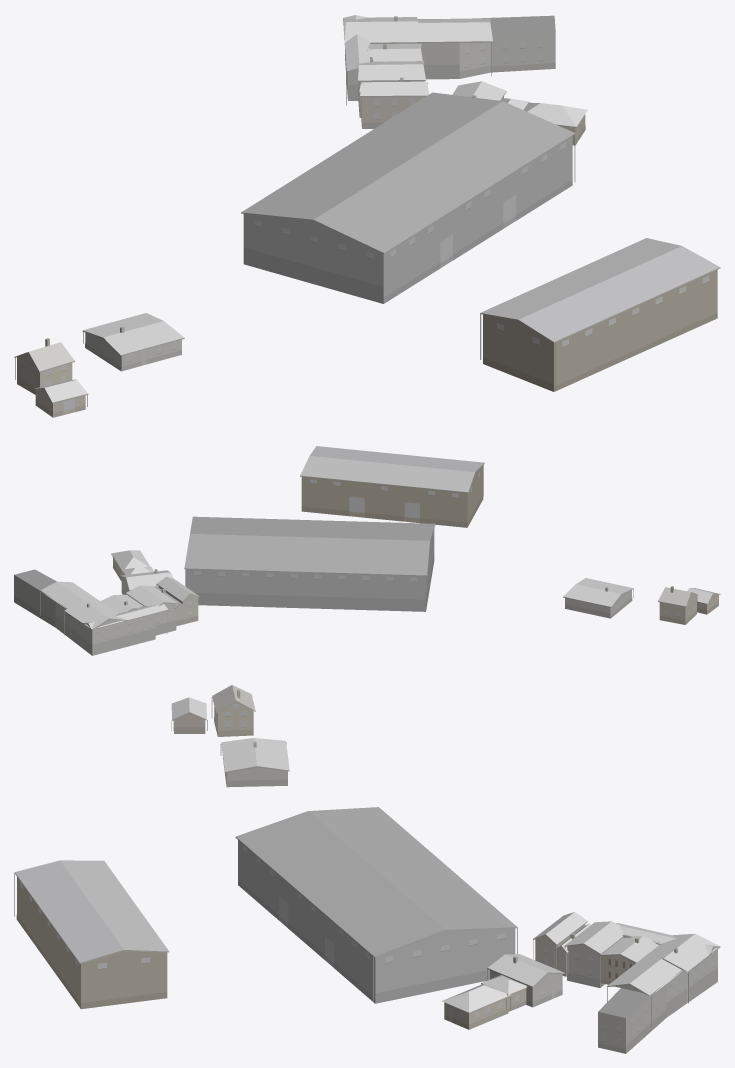
3 views of the same model, one above another, from view 1: azimuth 30°, elevation 25°; view 2: azimuth 150°, elevation 25°; view 3: azimuth 270°, elevation 25° (orthographic). The views are drawn at different scales.
Parts seen in each view (by area): view 1: bld; view 2: bld; view 3: bld.
Part boxes in pixels (box(x1,y1,x2,y2)): bld: box(14, 15, 720, 417); bld: box(14, 446, 720, 655); bld: box(14, 685, 720, 1053).
Bounding box in the file's own units: 156 × 15.36 × 138.
